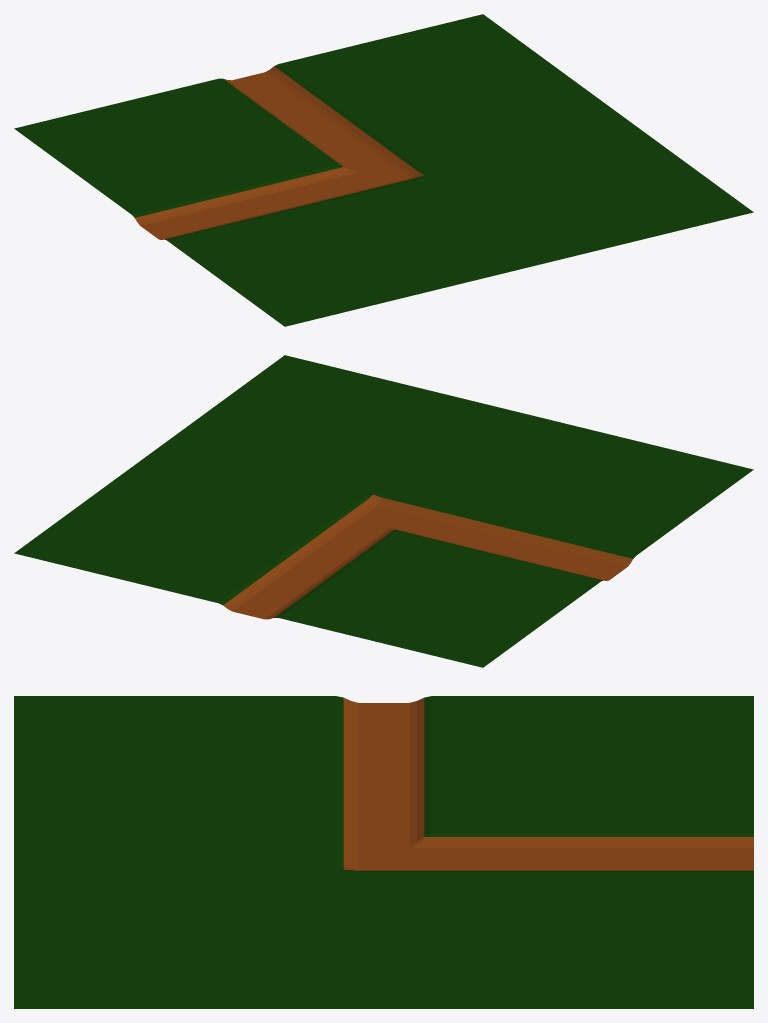
File: Terrain_Part_Plane_11.fbx
3 renders of one model, top to bottom at view 1: azimuth 30°, elevation 25°; view 2: azimuth 150°, elevation 25°; view 3: azimuth 270°, elevation 25°, orthographic. The views are drawn at different scales.
Parts seen in each view (by area): view 1: Terrain_Part_Plane_11; view 2: Terrain_Part_Plane_11; view 3: Terrain_Part_Plane_11.
Part boxes in pixels (x1,y1,x2,y2): Terrain_Part_Plane_11: [14, 14, 753, 326]; Terrain_Part_Plane_11: [14, 355, 753, 667]; Terrain_Part_Plane_11: [14, 696, 753, 1008].
Size of the model in its own units: 2000 by 20 by 2000.
